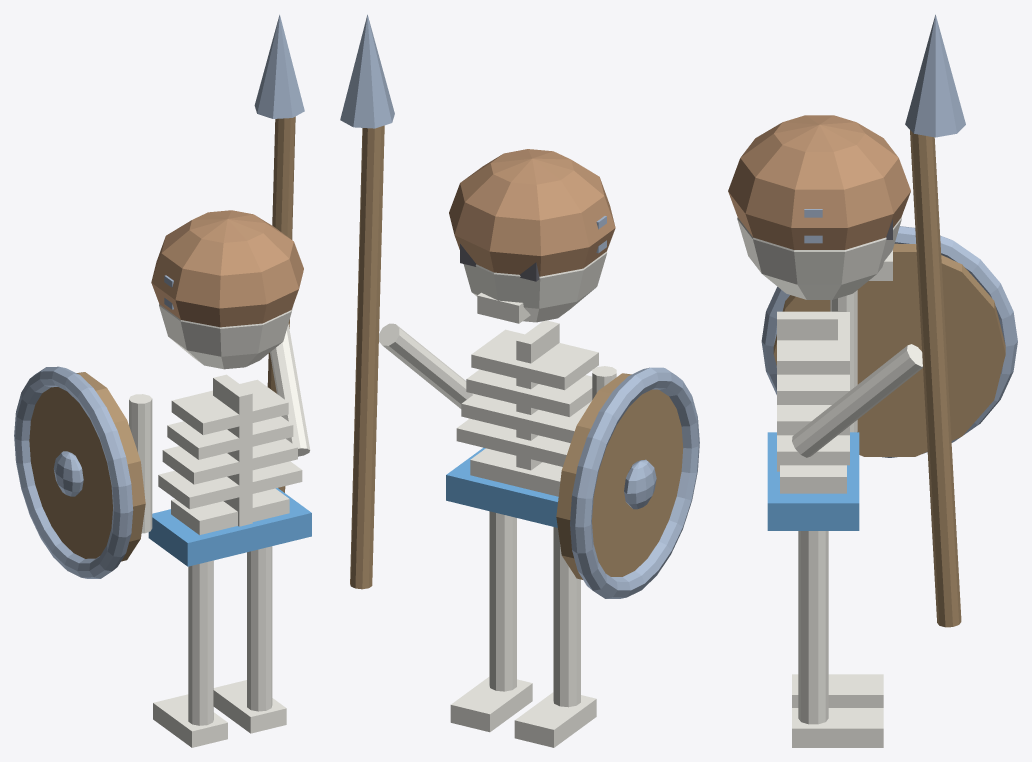
File: guards.glb
3 views of the same model, side by side, from view 1: azimuth 30°, elevation 25°; view 2: azimuth 150°, elevation 25°; view 3: azimuth 270°, elevation 25° (orthographic). The views are drawn at different scales.
Parts seen in each view (by area): view 1: guards; view 2: guards; view 3: guards.
Boxes of the visible parts, x1,y1,x2,y2 form: guards: [14, 14, 311, 747]; guards: [340, 14, 699, 747]; guards: [728, 14, 1017, 747].
Bounding box in the file's own units: 1.16 × 2.76 × 0.95.
